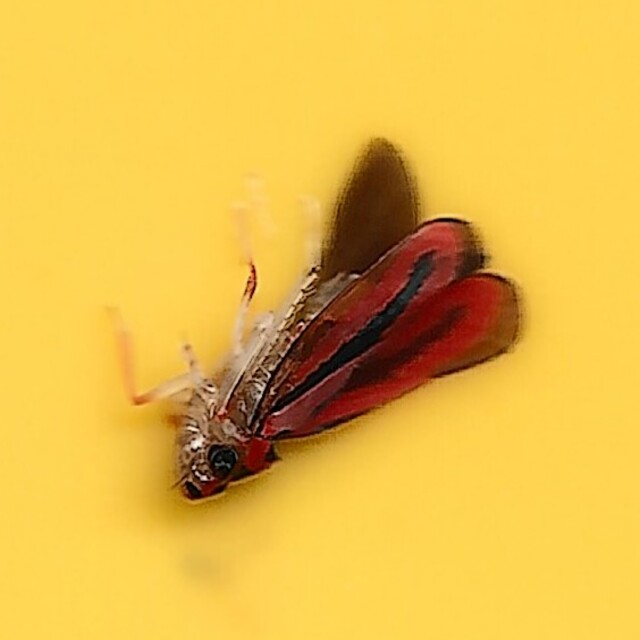Hemiptera: (113, 134, 527, 506)
